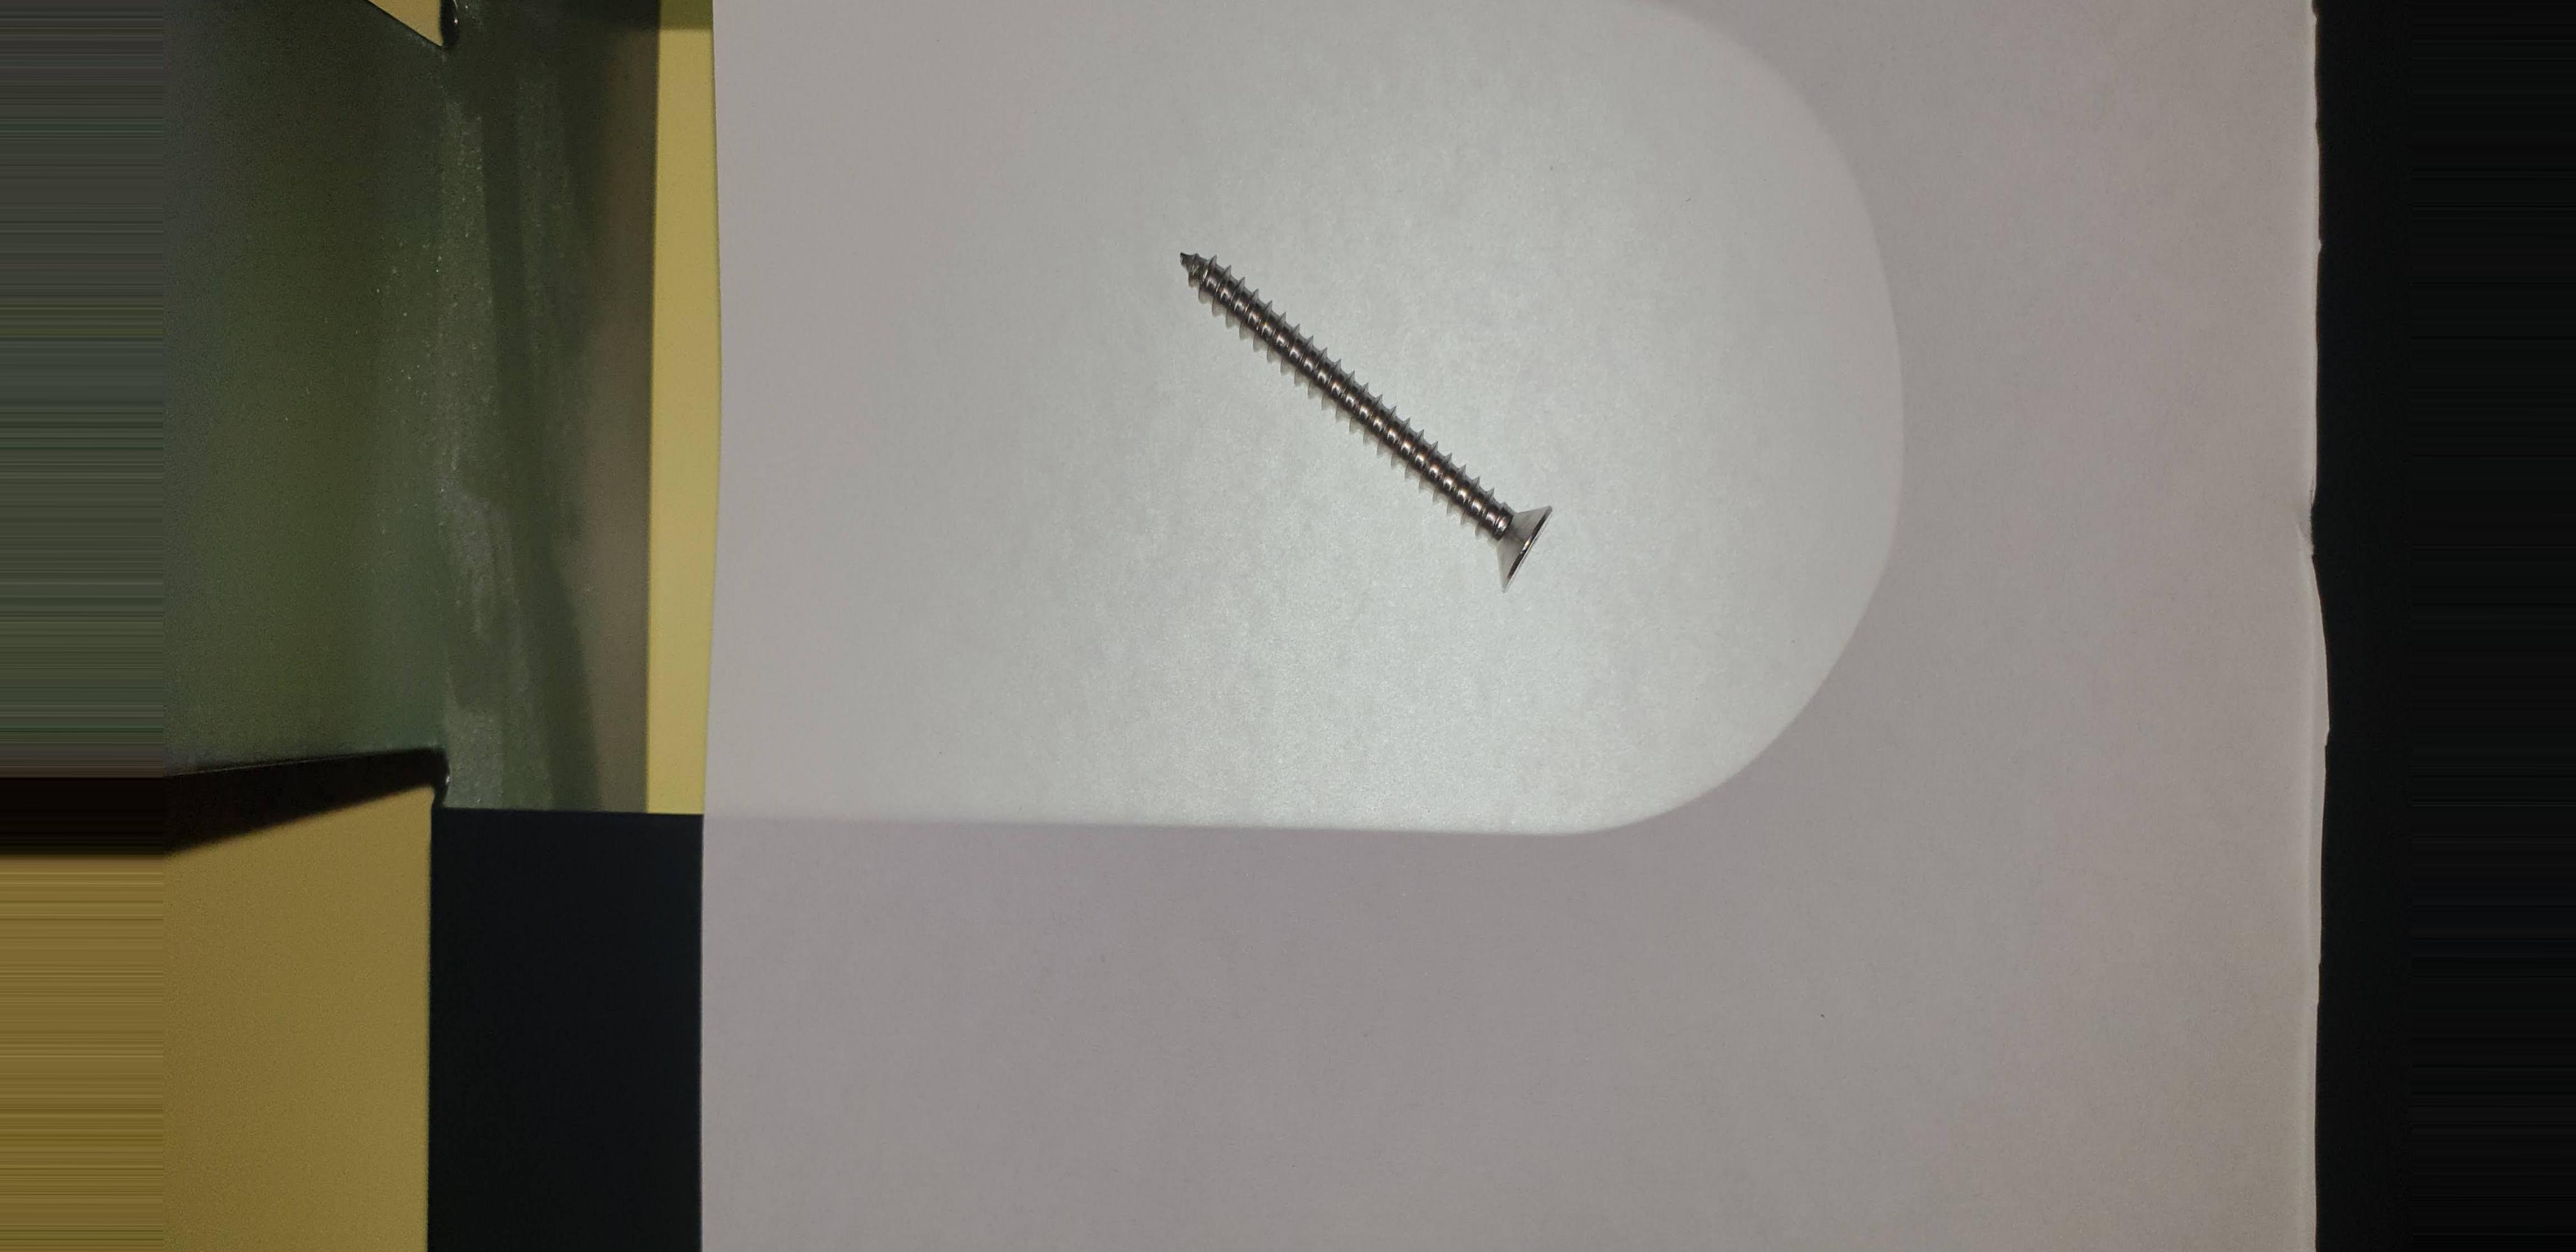fastener: (1161, 220, 1607, 610)
